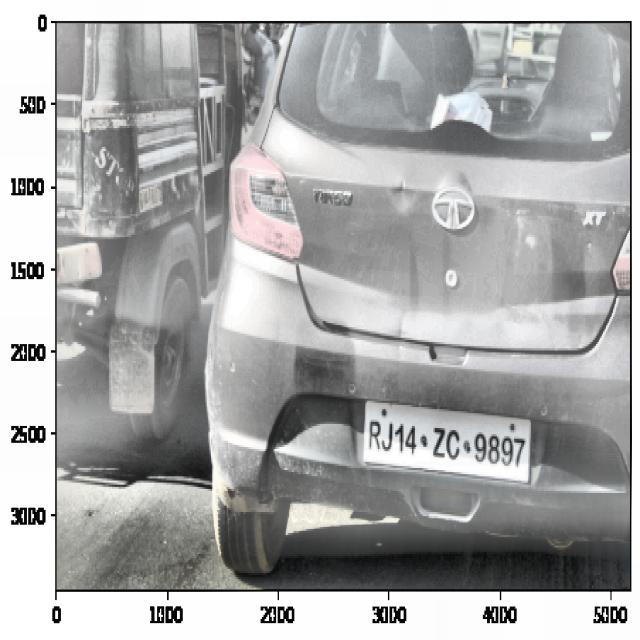license_plate: (364, 406, 528, 472)
